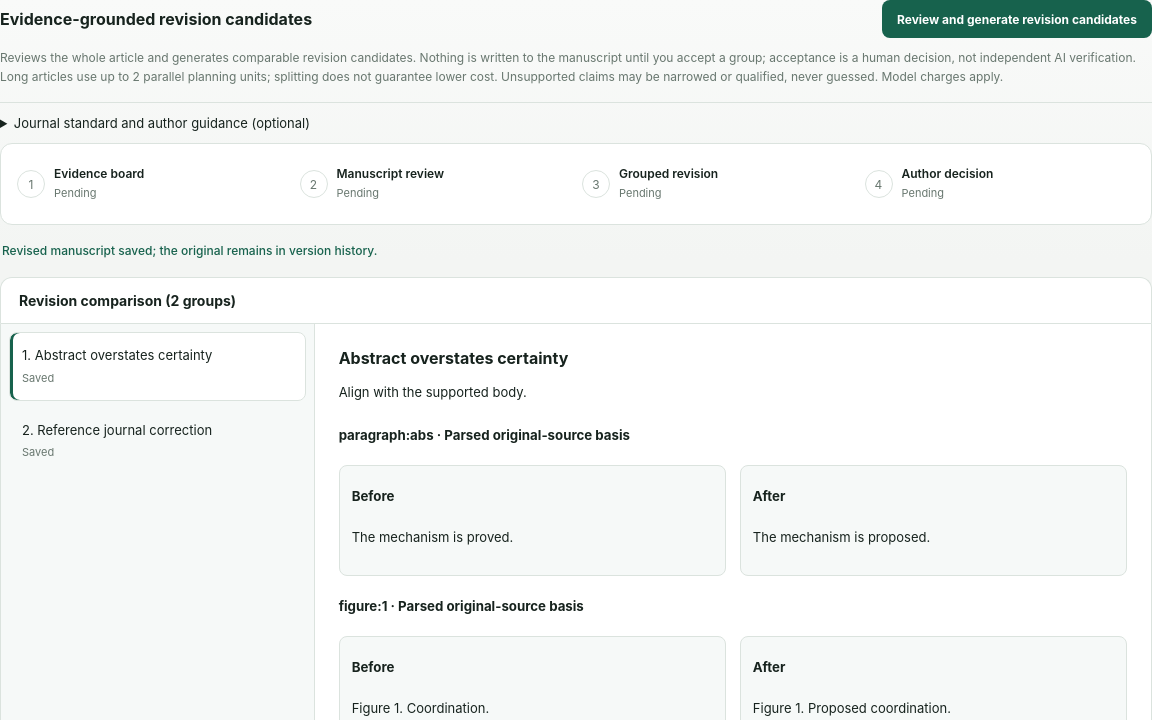
shows one bounded group comparison across body and figure, not an issue repair queue
Expected: the text "The mechanism is proved." is shown, [352,529,513,545]
Expected: the text "The mechanism is proposed." is shown, [753,529,930,545]
Click the button "2. Reference journal correction Saved" at x=125, y=430, box [9,407,306,475]
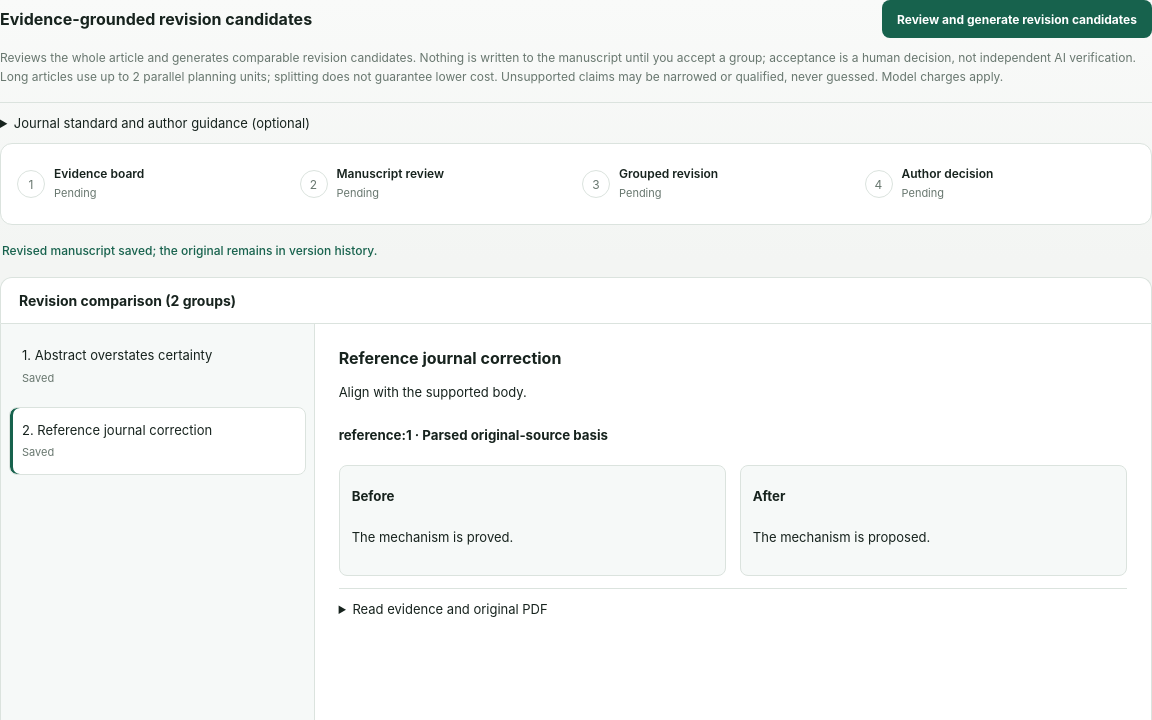
Expected: the text "Figure 1. Proposed coordination." is gone
Expected: the heading "reference:1 · Parsed original-source basis" is shown, [339,427,608,443]
